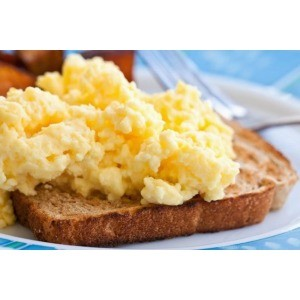egg_brain food: (38, 80, 153, 160)
